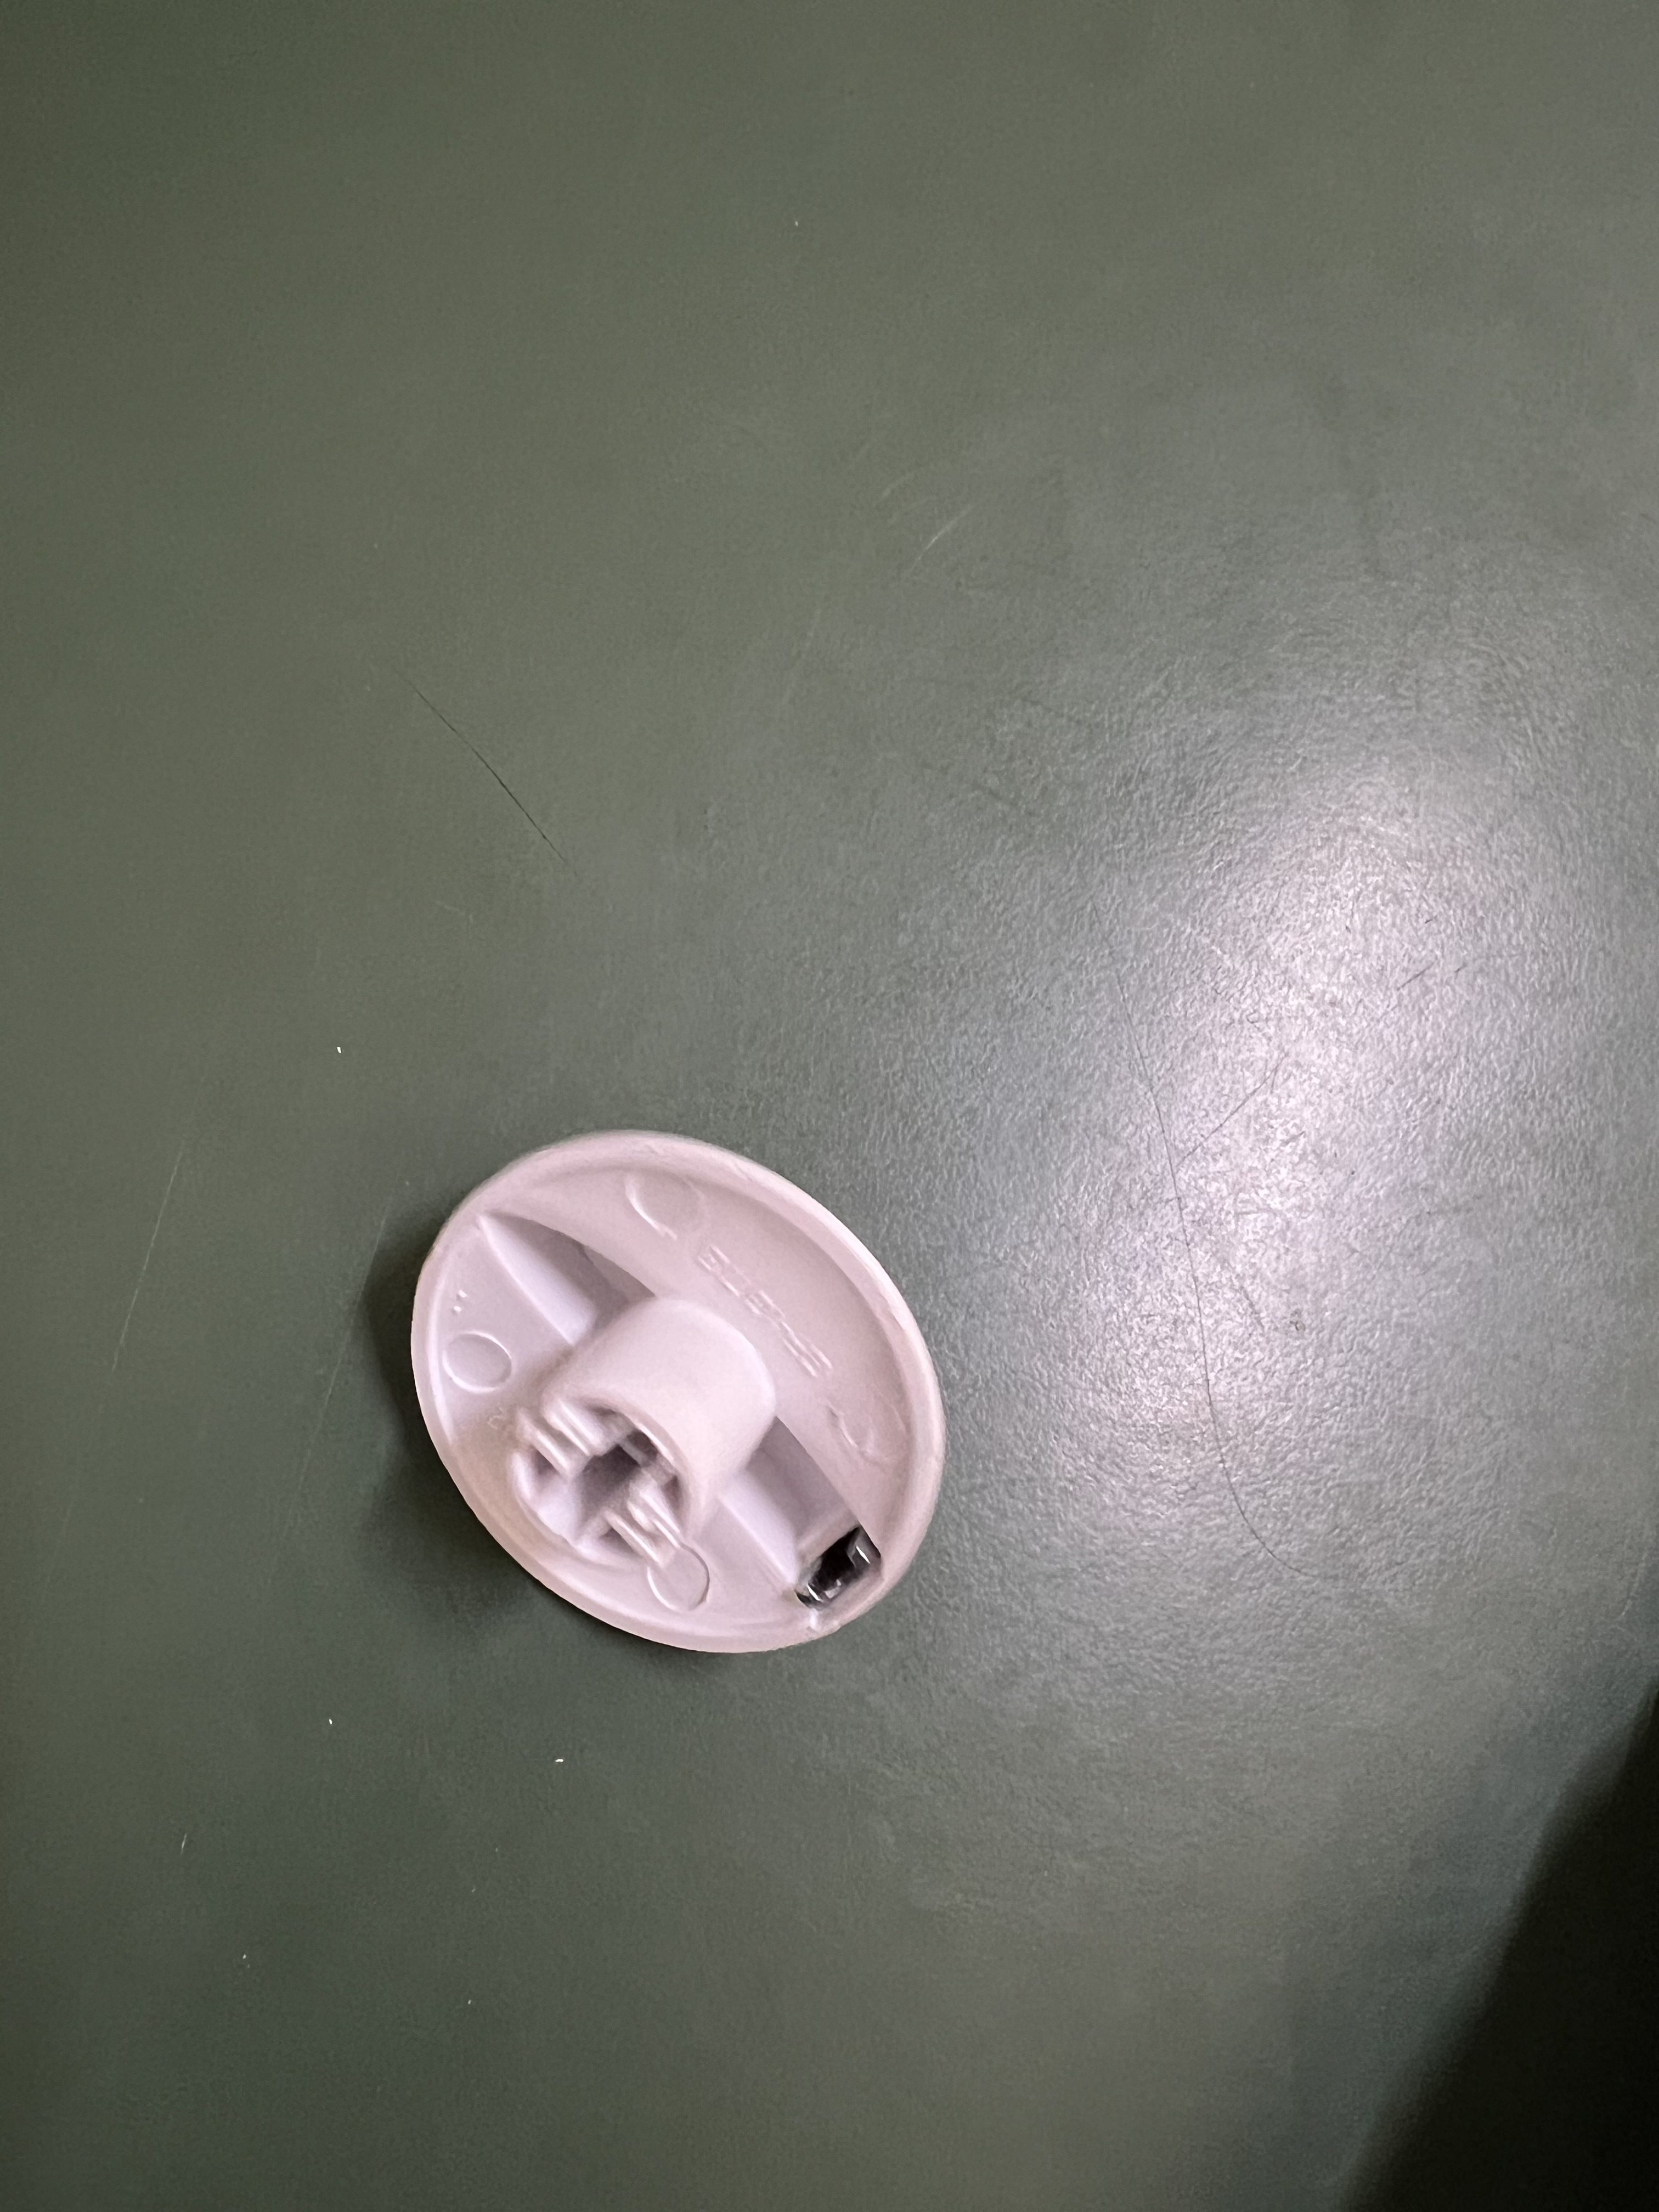regulator: (390, 1122, 936, 1653)
